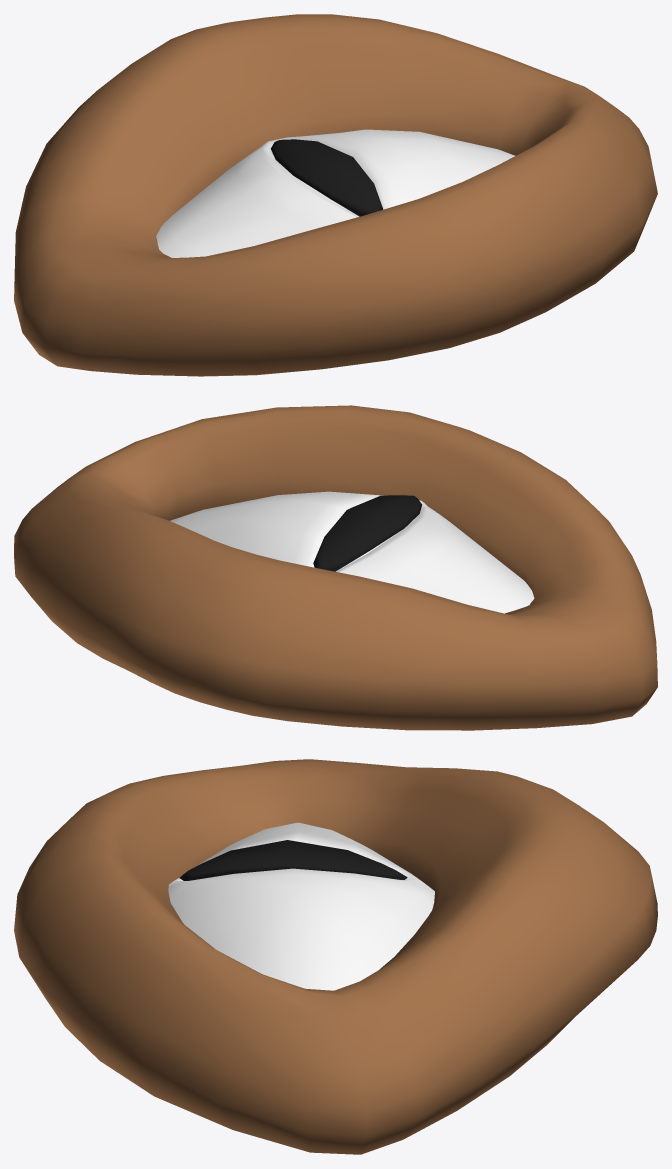
Rendered from Sauro-Seers.fbx.
3 renders of one model, top to bottom at view 1: azimuth 30°, elevation 25°; view 2: azimuth 150°, elevation 25°; view 3: azimuth 270°, elevation 25°, orthographic. The views are drawn at different scales.
Visible parts, largest first — view 1: Sauro-Seers - gigas18 (Mr Fear); view 2: Sauro-Seers - gigas18 (Mr Fear); view 3: Sauro-Seers - gigas18 (Mr Fear).
Part boxes in pixels (x1,y1,x2,y2): Sauro-Seers - gigas18 (Mr Fear): [14, 14, 657, 376]; Sauro-Seers - gigas18 (Mr Fear): [14, 405, 657, 730]; Sauro-Seers - gigas18 (Mr Fear): [14, 759, 657, 1154].
Bounding box in the file's own units: 35.7 × 9.84 × 29.38.
